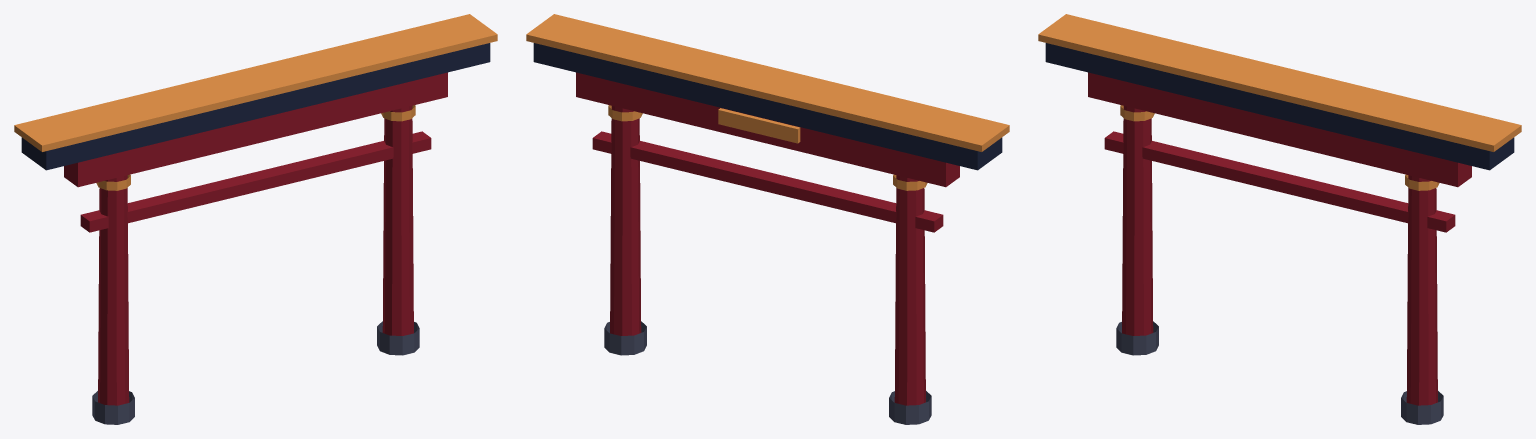
Rendered from dojo_ceremonial_torii.obj.
3 views of the same model, side by side, from view 1: azimuth 30°, elevation 25°; view 2: azimuth 150°, elevation 25°; view 3: azimuth 330°, elevation 25° (orthographic).
Visible parts, largest first — view 1: dojo_ceremonial_torii; view 2: dojo_ceremonial_torii; view 3: dojo_ceremonial_torii.
Part boxes in pixels (bbox=[...]): dojo_ceremonial_torii: bbox=[14, 14, 497, 424]; dojo_ceremonial_torii: bbox=[526, 14, 1009, 424]; dojo_ceremonial_torii: bbox=[1038, 14, 1521, 424].
Size of the model in its own units: 16 by 10.12 by 1.7.
